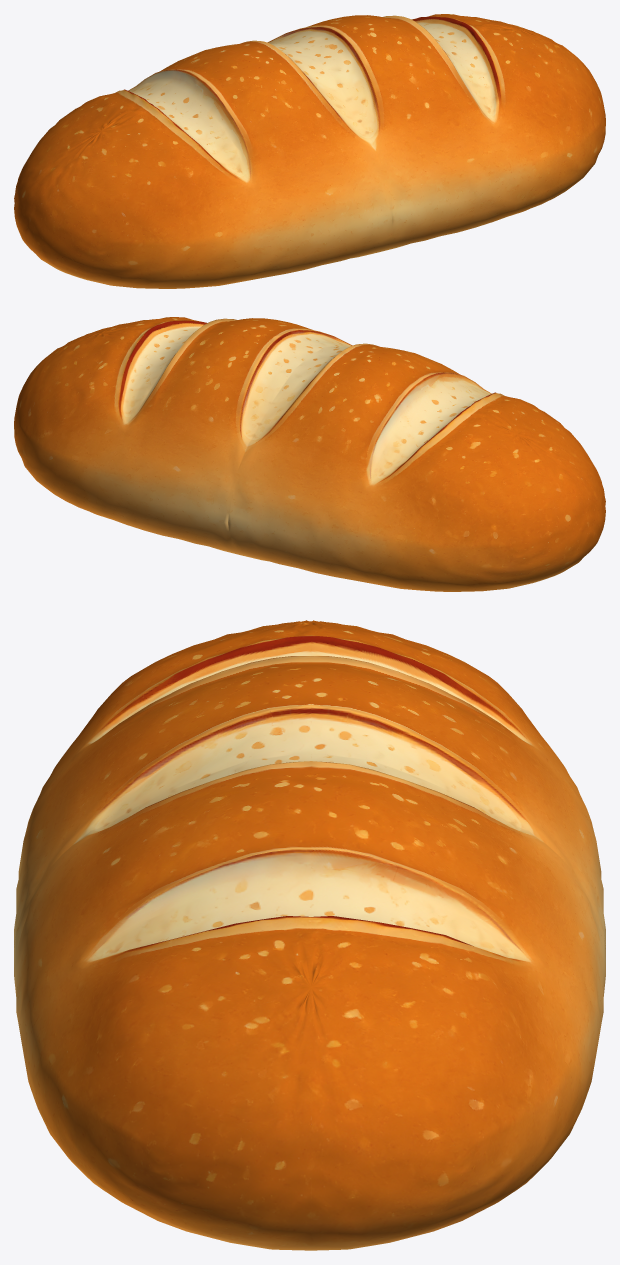
Rendered from bread.fbx.
The picture shows the model from 3 angles, top to bottom: view 1: azimuth 30°, elevation 25°; view 2: azimuth 150°, elevation 25°; view 3: azimuth 270°, elevation 25°; orthographic projection. The views are drawn at different scales.
Visible parts, largest first — view 1: Mesh_0; view 2: Mesh_0; view 3: Mesh_0.
Boxes of the visible parts, x1=… form: Mesh_0: x1=14, y1=14, x2=605, y2=288; Mesh_0: x1=14, y1=317, x2=605, y2=591; Mesh_0: x1=14, y1=620, x2=605, y2=1250.
Size of the model in its own units: 38.12 by 11.35 by 19.33.
Materials: 1 (1 with a texture image).
